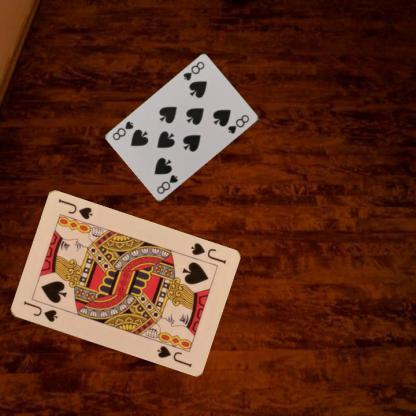8s: (180, 59, 206, 82), (154, 172, 179, 195)
Js: (20, 298, 59, 324), (188, 240, 228, 265)
